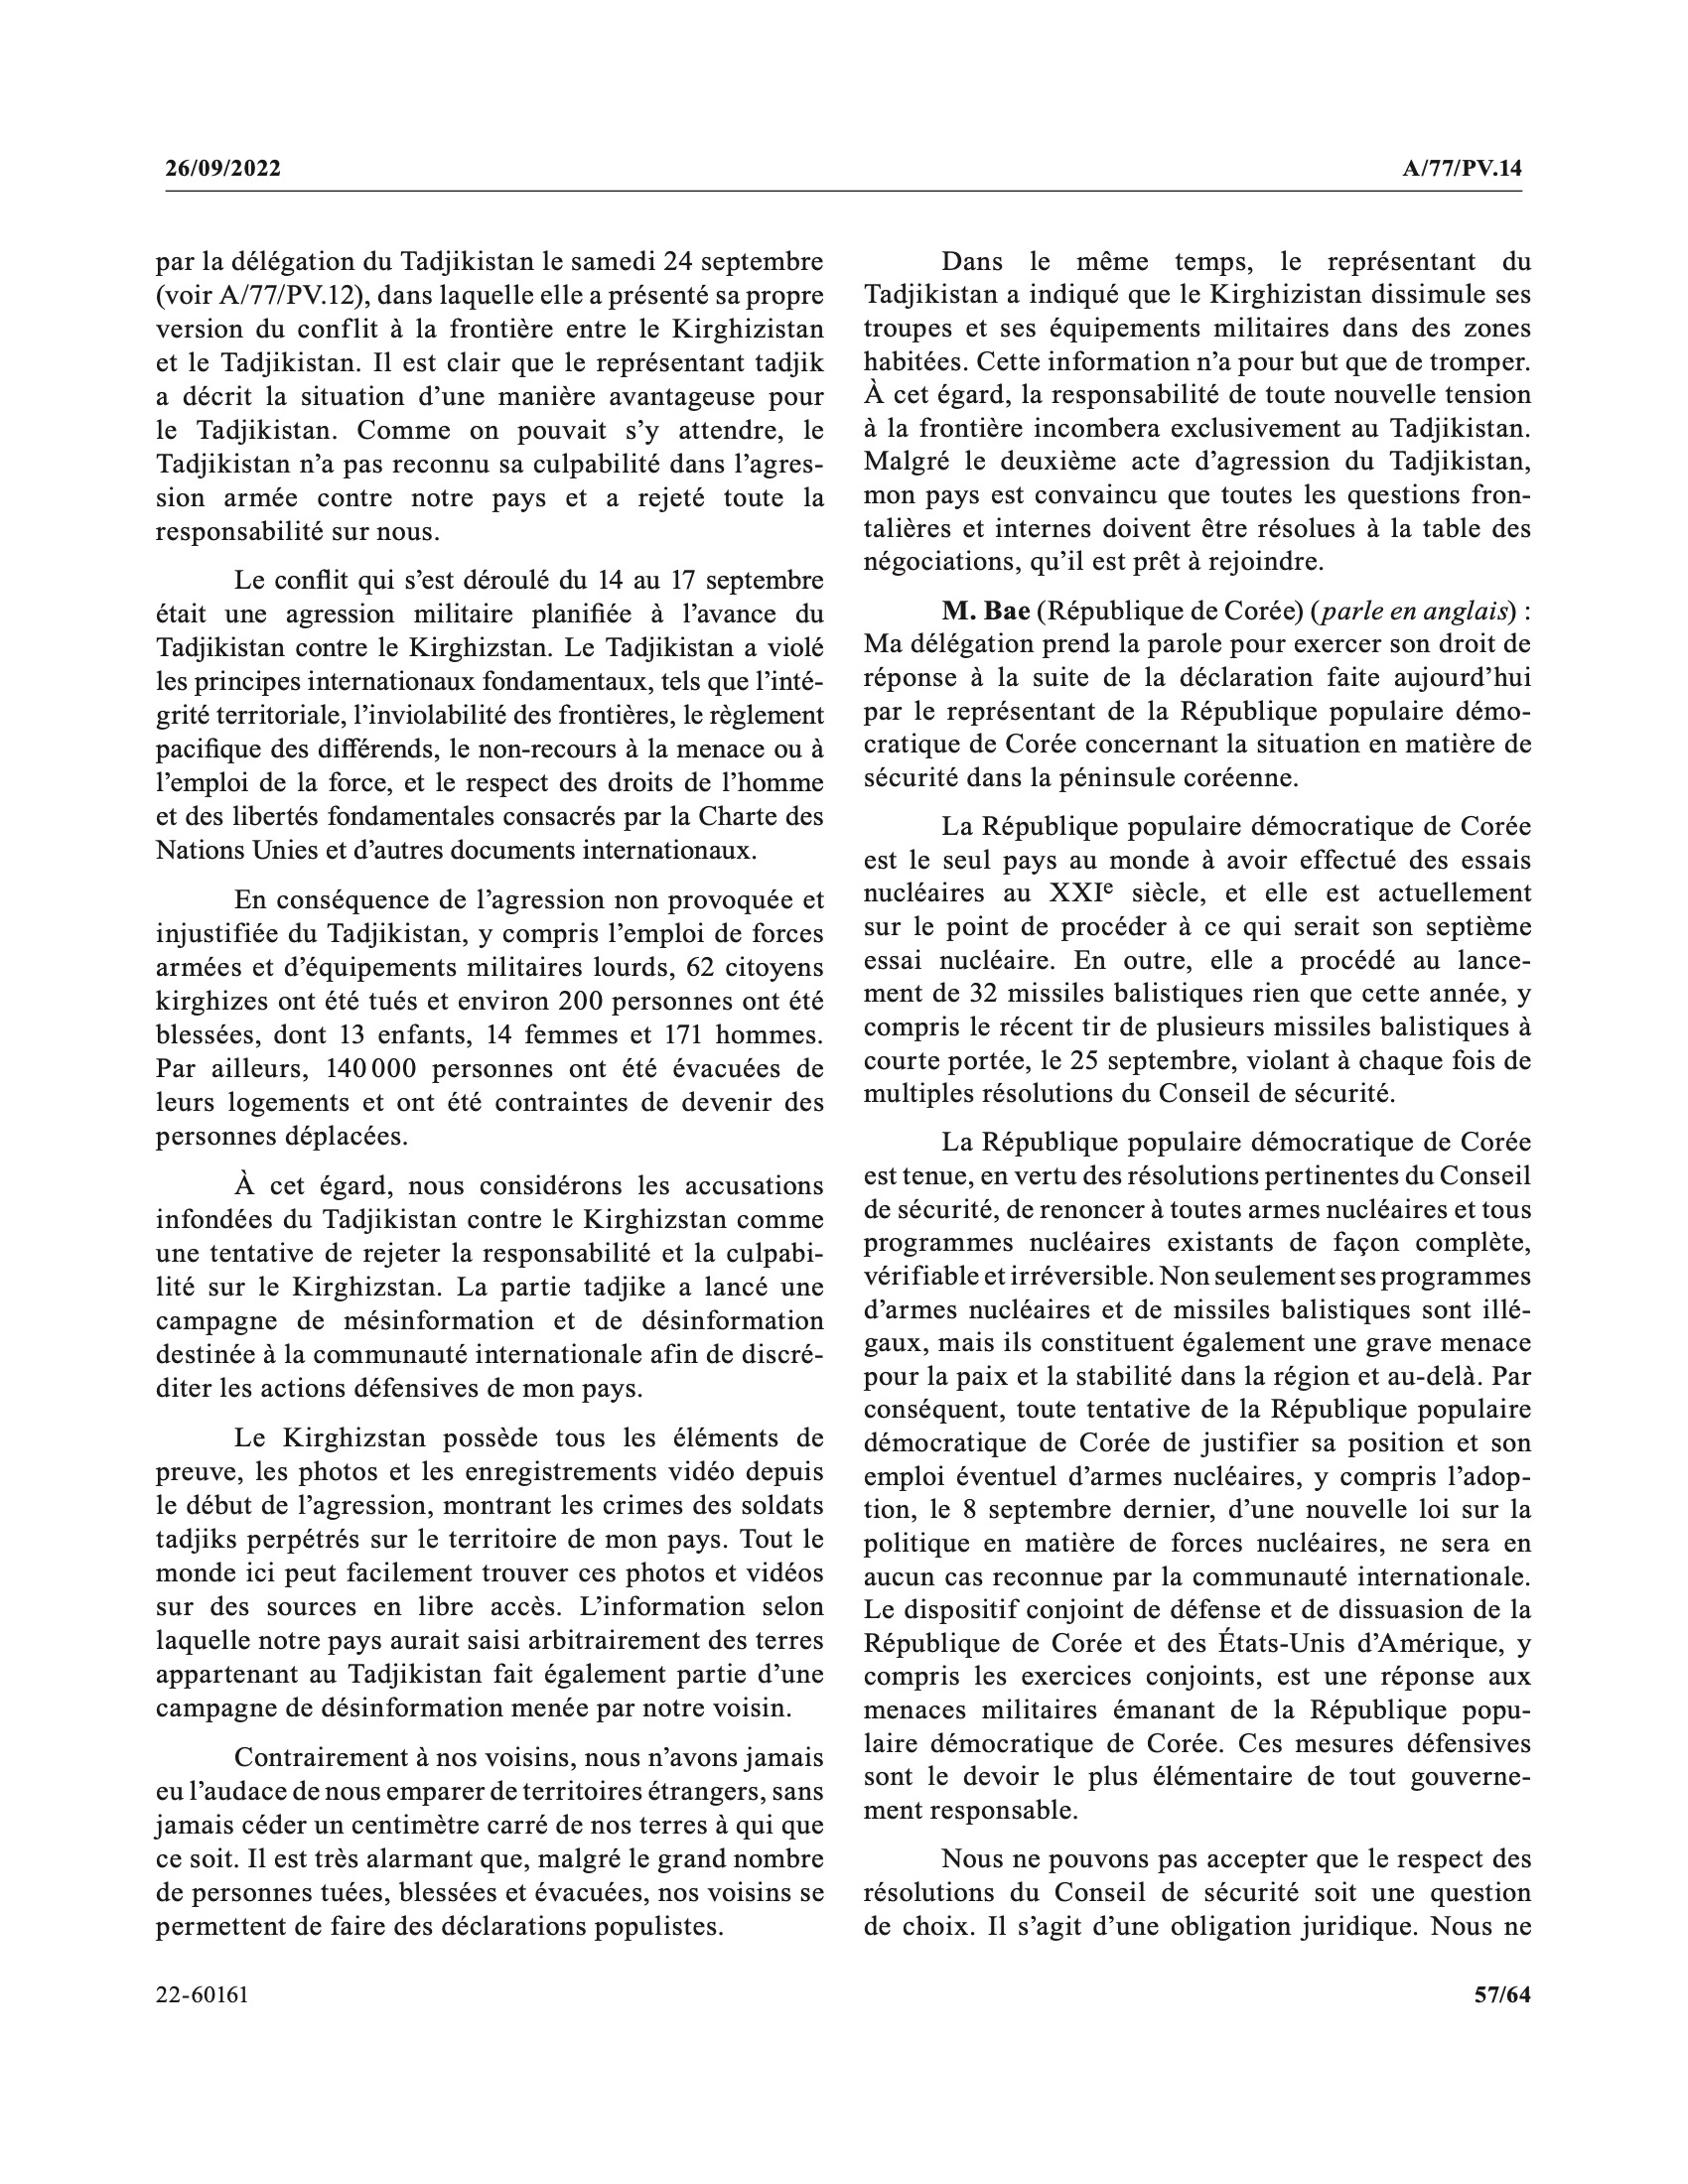MainZone-Continued: (147, 241, 835, 548)
MainZone-Date: (158, 151, 289, 188)
MainZone-P: (856, 1122, 1544, 1831), (858, 241, 1541, 580), (145, 1418, 835, 1728), (147, 560, 837, 867), (858, 808, 1543, 1111), (147, 881, 833, 1154), (149, 1165, 830, 1406), (147, 1737, 832, 1950), (858, 592, 1543, 796), (860, 1840, 1541, 1955)
NumberingZone: (149, 1975, 259, 2017), (1465, 1977, 1539, 2014)
RunningTitleZone: (1397, 151, 1528, 188)
